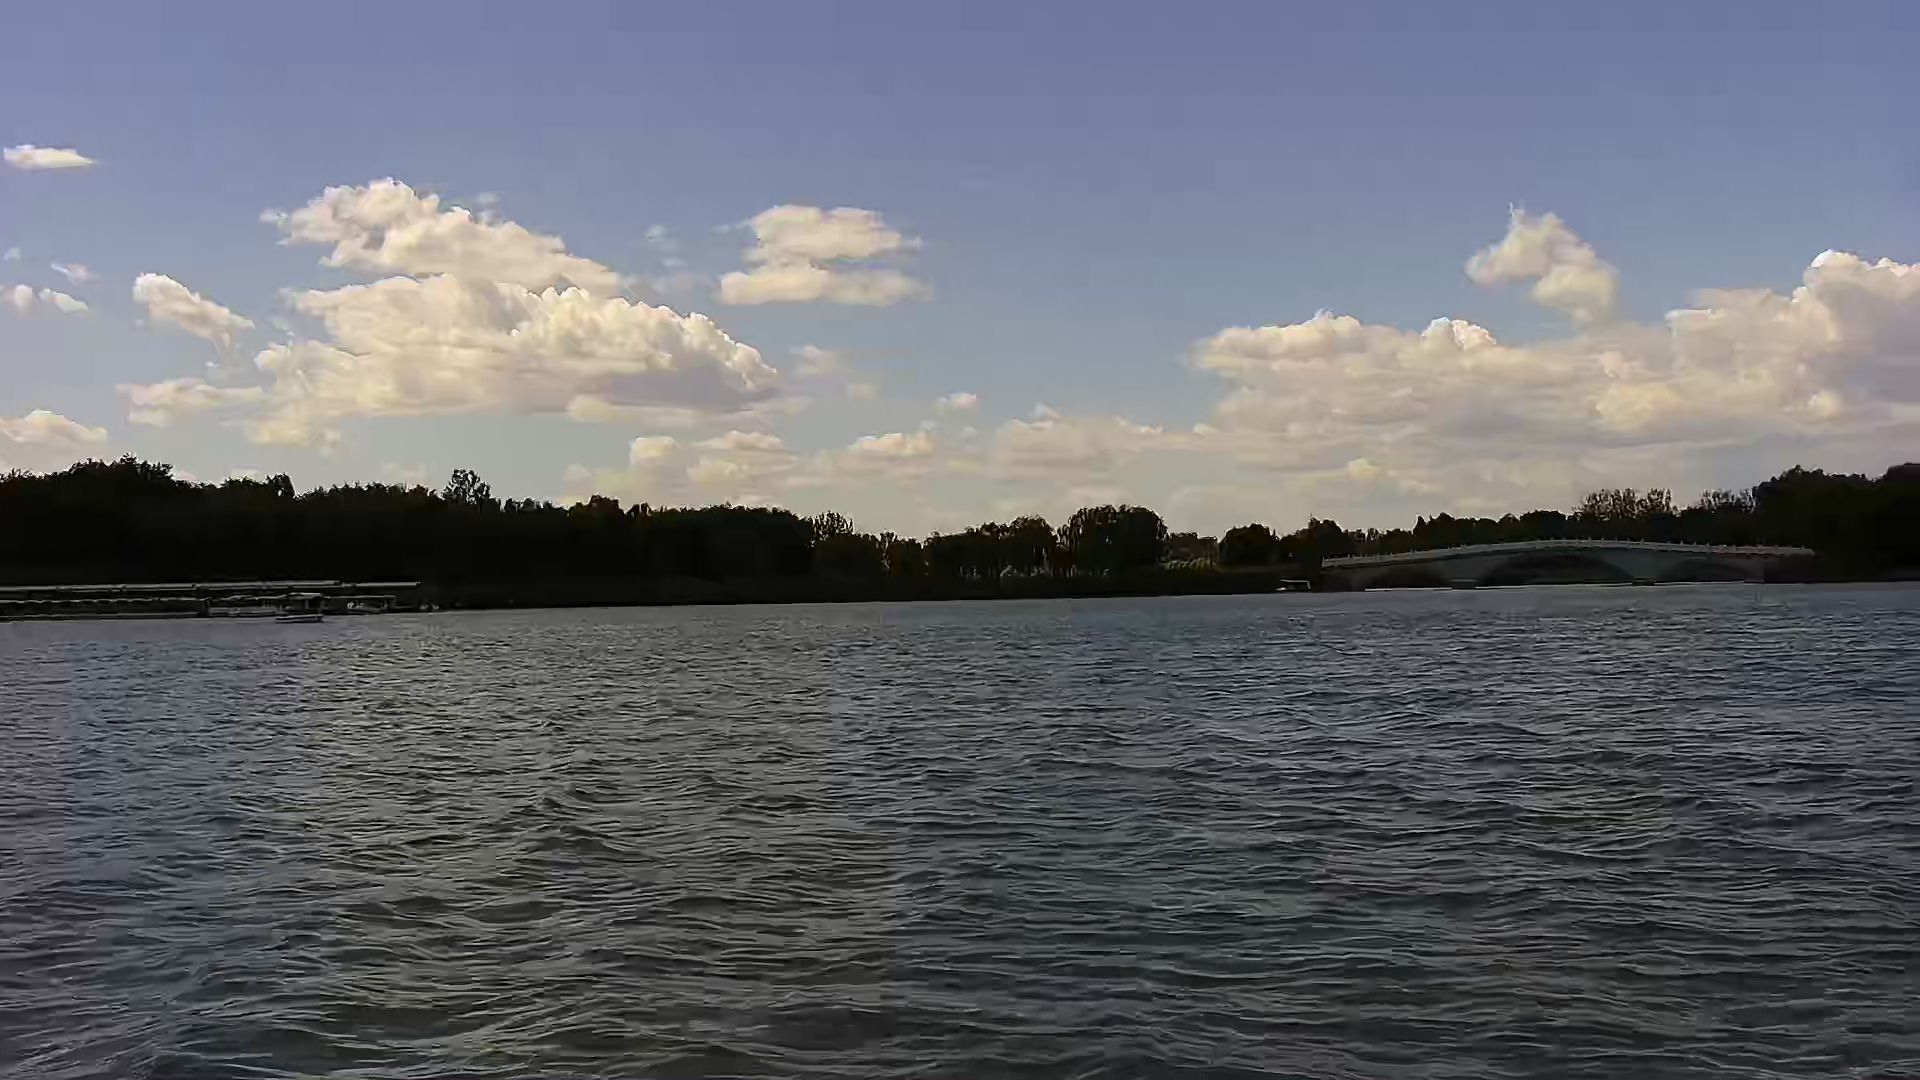boat: (266, 591, 326, 625)
bridge: (1304, 538, 1820, 592)
harbor: (1, 576, 465, 626)
